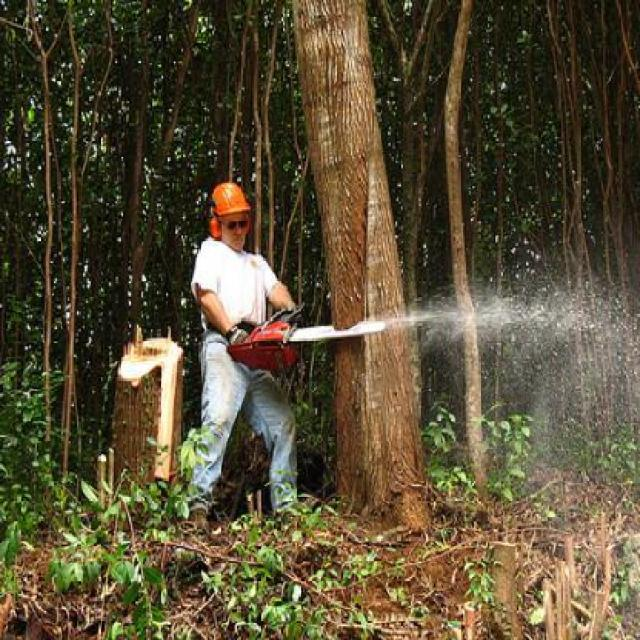Chainsaw: (228, 300, 386, 374)
